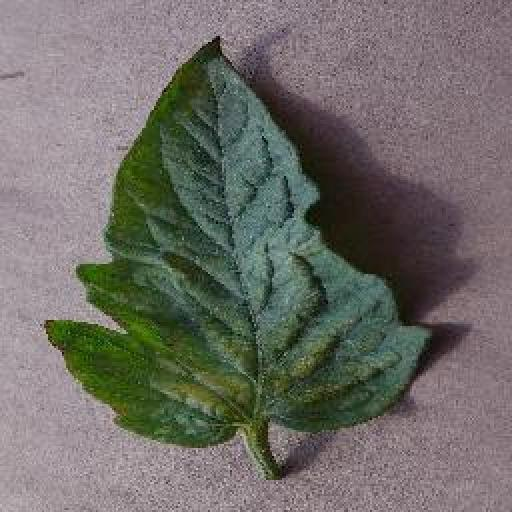disease_tomato: (46, 33, 434, 447)
